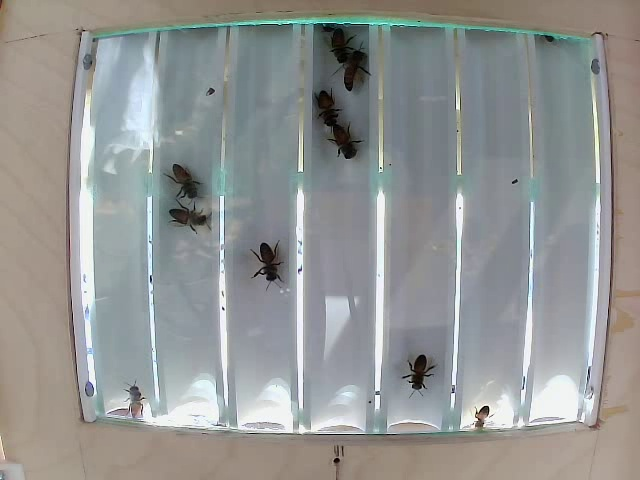bee: (408, 354, 450, 409), (167, 204, 213, 242), (164, 156, 208, 195), (342, 49, 380, 94), (260, 251, 303, 285), (305, 90, 337, 128), (117, 391, 156, 422), (332, 32, 361, 68), (329, 124, 357, 156), (472, 406, 493, 431)
